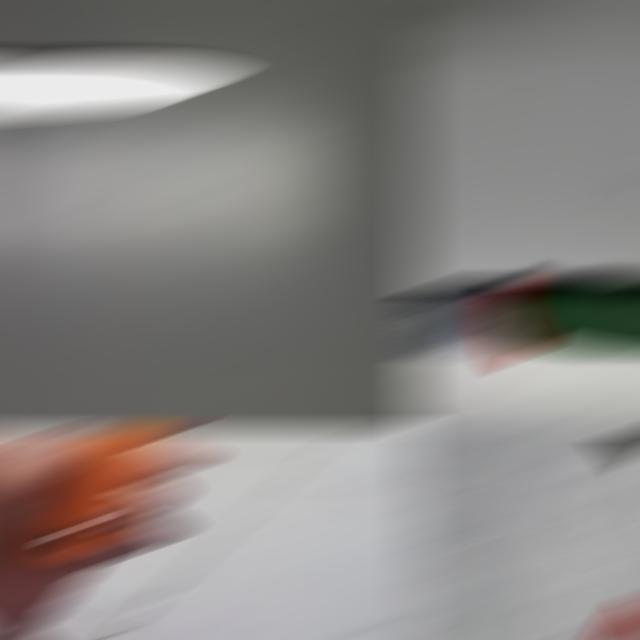Knife: (405, 280, 640, 358), (30, 432, 162, 553), (0, 60, 239, 114)
